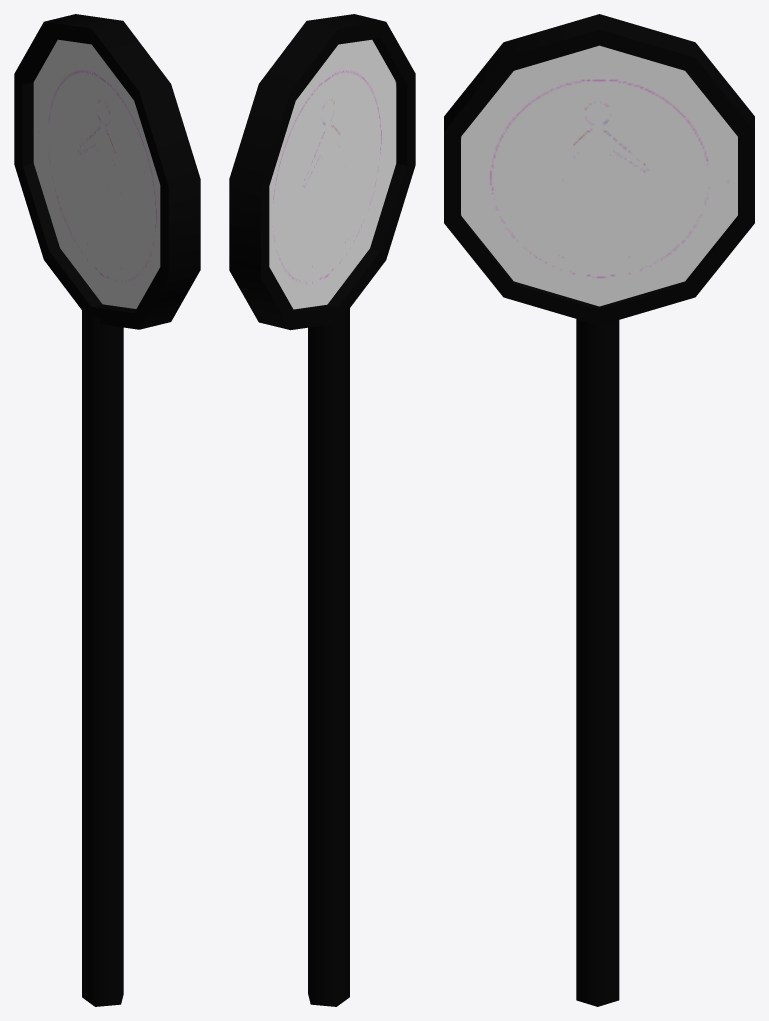
Rendered from sign28.FBX.
3 renders of one model, left to right at view 1: azimuth 30°, elevation 25°; view 2: azimuth 150°, elevation 25°; view 3: azimuth 270°, elevation 25°, orthographic.
Visible parts, largest first — view 1: Cylinder002; view 2: Cylinder002; view 3: Cylinder002.
Boxes of the visible parts, x1=… form: Cylinder002: x1=14, y1=14, x2=200, y2=1006; Cylinder002: x1=229, y1=14, x2=415, y2=1006; Cylinder002: x1=444, y1=14, x2=754, y2=1006.
Bounding box in the file's own units: 3.3 × 85.76 × 24.7.
